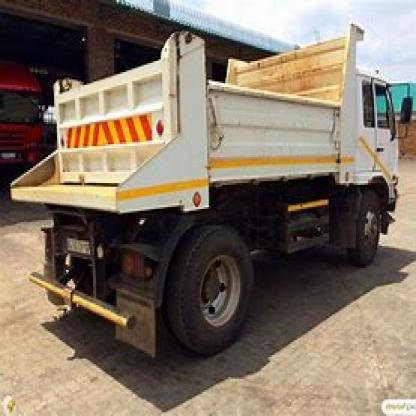dump_truck: (30, 18, 401, 352)
